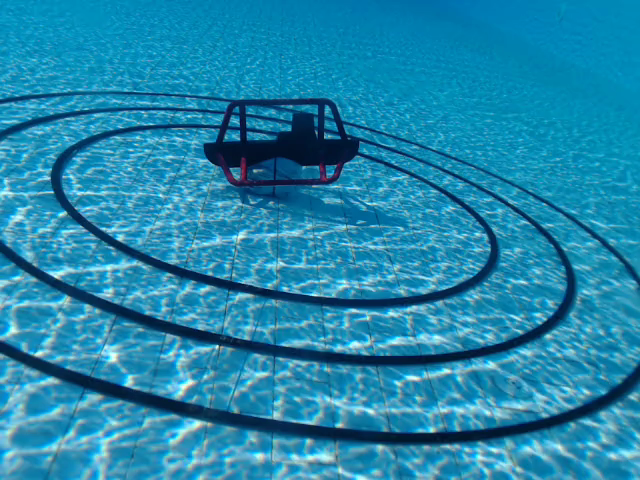submarine: (201, 96, 363, 189)
